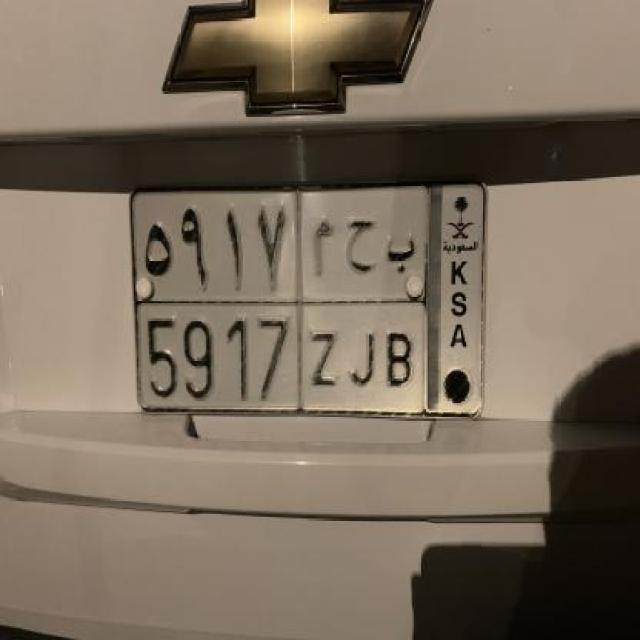license_plate: (124, 173, 493, 422)
